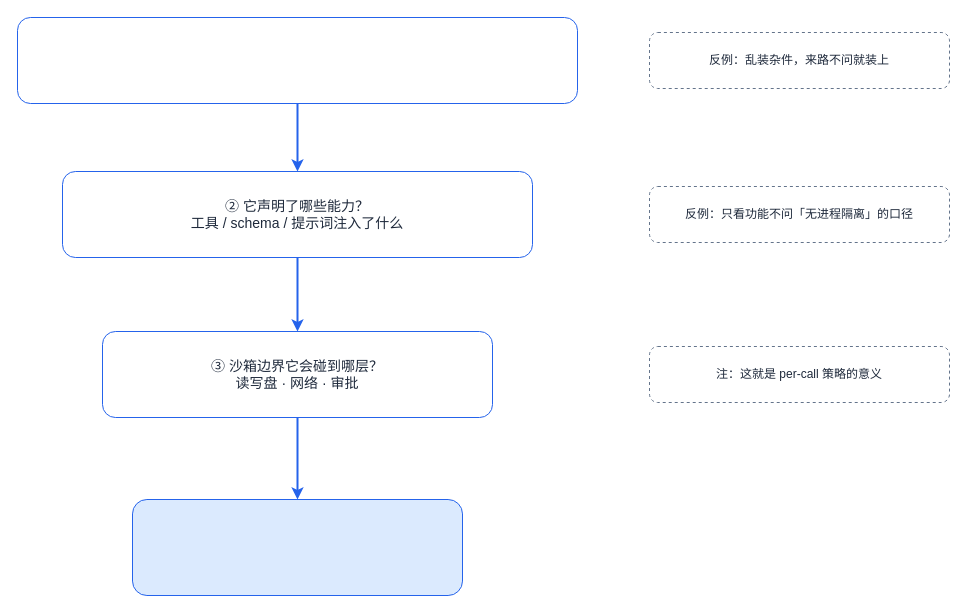
The diagram is 967 pixels wide and 613 high, and some of its shapes have lost their labels. Each missing label, with the centre of its shape:
"① 这个仓库谁在维护？ star 数 + 当天是否有维护动作" belongs at (x=297, y=60).
"④ 最小权限起步： 放专用 profile 试运行" belongs at (x=297, y=547).
